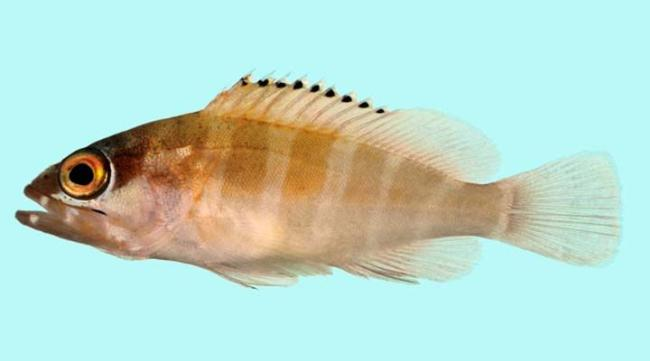fish: (15, 67, 624, 291)
